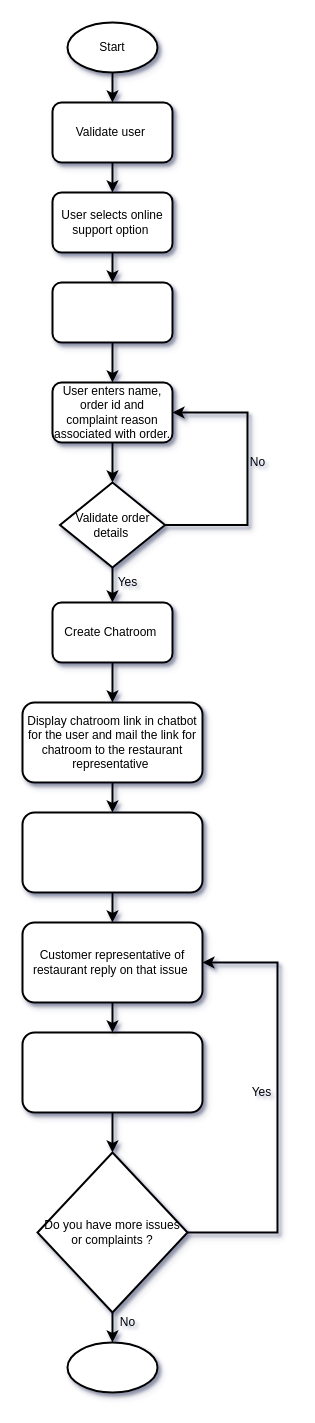
This 315x1423 diagram has some shape labels left out. Here are the shapes that lost their labels. From the top down, the centre of each, then its label:
At point (113, 313): "User selects the option of complaint after chatting with chatbot".
At point (113, 853): "User asks specific issue or file specific complaint".
At point (113, 1073): "User and restaurant representatice chats regarding the issue or problem".
At point (113, 1368): "End".
